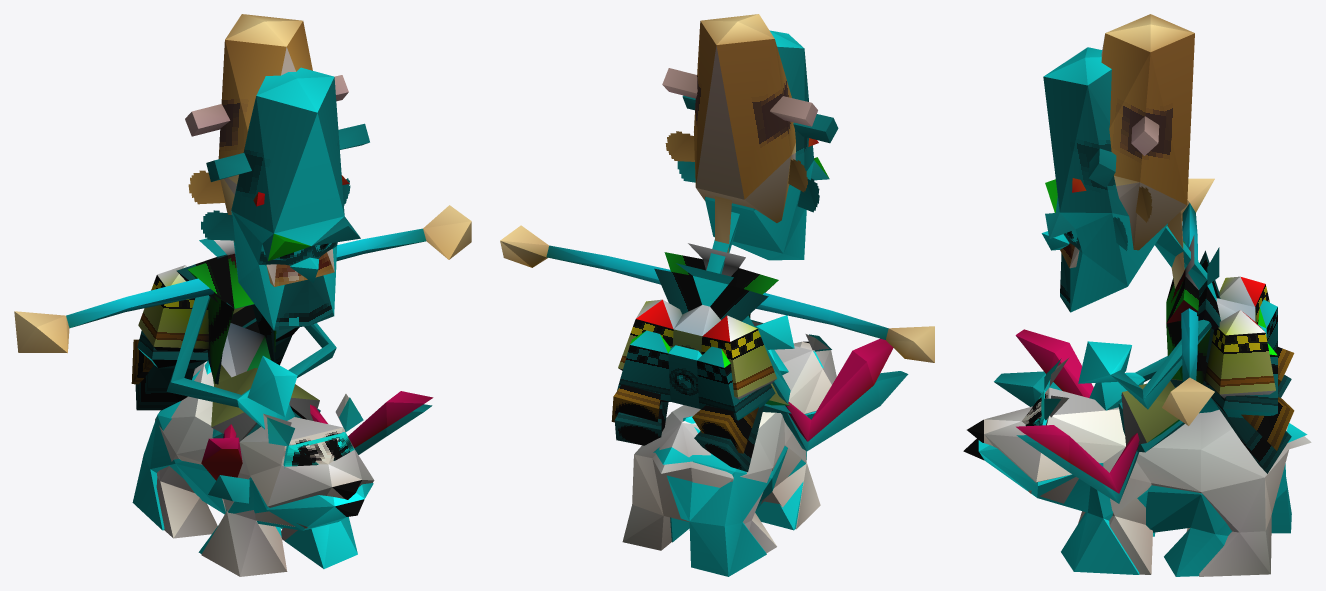
The picture shows the model from 3 angles, left to right: view 1: azimuth 30°, elevation 25°; view 2: azimuth 150°, elevation 25°; view 3: azimuth 270°, elevation 25°; orthographic projection. The views are drawn at different scales.
Parts seen in each view (by area): view 1: part0, part1; view 2: part0, part1; view 3: part0, part1.
Boxes of the visible parts, left/top/right/bottom form: part0: left=14, top=14, right=471, bottom=576; part1: left=132, top=67, right=432, bottom=568; part0: left=500, top=14, right=934, bottom=553; part1: left=614, top=30, right=908, bottom=576; part0: left=967, top=14, right=1311, bottom=576; part1: left=963, top=47, right=1307, bottom=576.
Bounding box in the file's own units: 0.5879 × 0.6426 × 0.3906.
25 materials, 23 textured.
